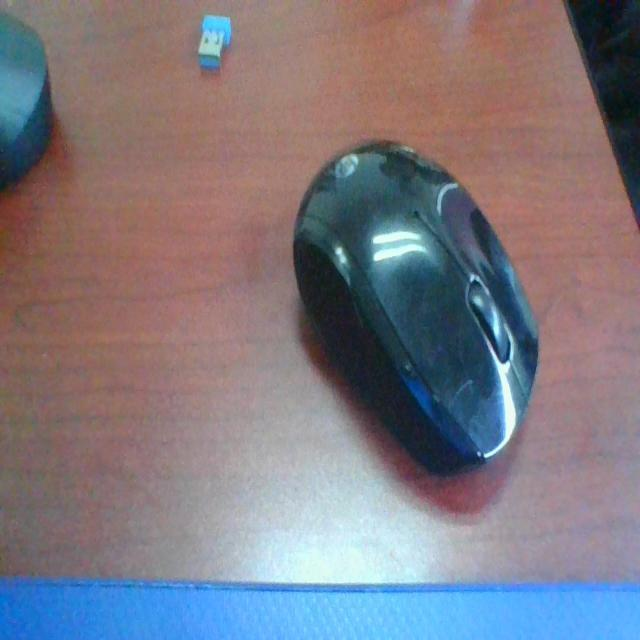Mouse: (286, 123, 555, 510)
